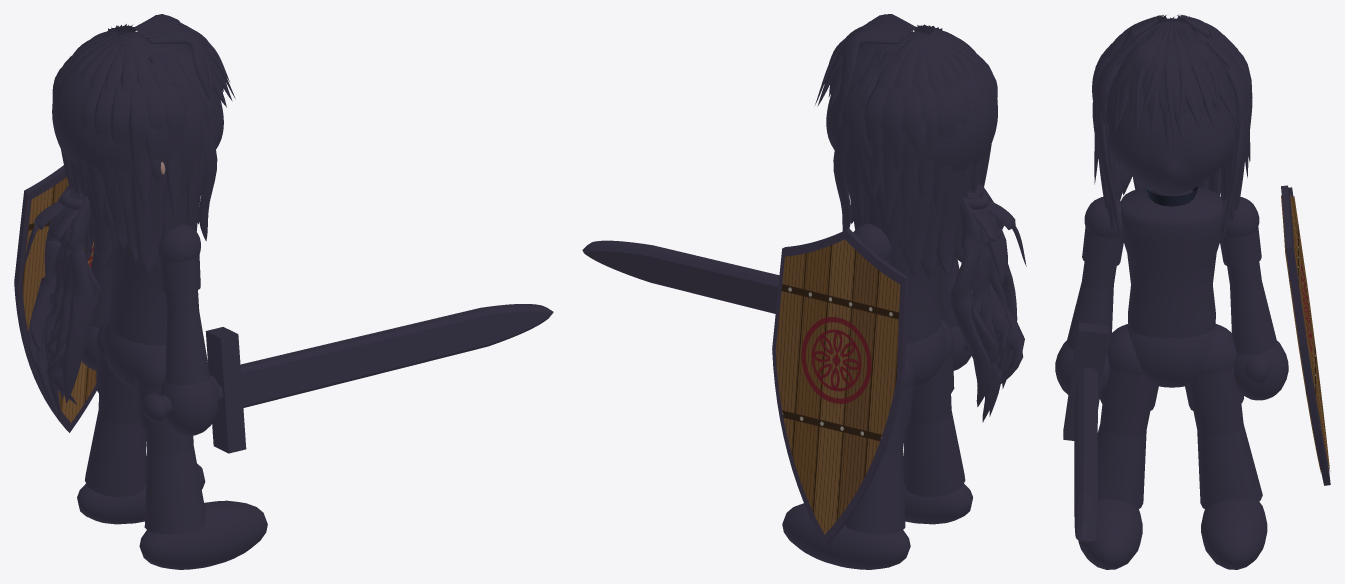
File: kael.glb
3 renders of one model, left to right at view 1: azimuth 30°, elevation 25°; view 2: azimuth 150°, elevation 25°; view 3: azimuth 270°, elevation 25°, orthographic.
Visible parts, largest first — view 1: ct_70_104, ct_95_121, ct_500_6, ct_95_120, ct_140_1, ct_95_126, ct_70_105, ct_170_93, escudoBase, ct_95_101, ct_70_115, ct_95_102 (+31 smaller); view 2: escudoBase, ct_70_104, ct_70_115, ct_500_6, ct_95_127, ct_95_120, ct_170_85, ct_95_126, ct_140_1, ct_95_121, ct_170_59, ct_95_0 (+36 smaller); view 3: ct_140_1, ct_500_3, ct_70_104, ct_95_126, ct_95_127, ct_95_0, ct_95_120, ct_95_121, ct_70_115, ct_95_112, escudoBase, ct_70_105 (+42 smaller).
Boxes of the visible parts, <box> form: ct_70_104: <box>240,304,553,407</box>; ct_95_121: <box>139,500,267,569</box>; ct_500_6: <box>52,31,218,171</box>; ct_95_120: <box>144,446,205,534</box>; ct_140_1: <box>109,244,166,345</box>; ct_95_126: <box>85,410,146,497</box>; ct_70_105: <box>205,327,246,453</box>; ct_170_93: <box>62,196,94,403</box>; escudoBase: <box>22,177,96,422</box>; ct_95_101: <box>165,312,209,385</box>; ct_70_115: <box>14,165,96,432</box>; ct_95_102: <box>160,377,218,435</box>; escudoBase: <box>775,239,900,534</box>; ct_70_104: <box>582,240,779,313</box>; ct_70_115: <box>772,228,908,546</box>; ct_500_6: <box>831,31,997,174</box>; ct_95_127: <box>782,503,910,569</box>; ct_95_120: <box>903,411,965,497</box>; ct_170_85: <box>949,197,992,406</box>; ct_95_126: <box>845,450,905,534</box>; ct_140_1: <box>890,245,940,343</box>; ct_95_121: <box>903,456,972,524</box>; ct_170_59: <box>881,42,923,225</box>; ct_95_0: <box>905,321,946,389</box>; ct_140_1: <box>1120,187,1222,338</box>; ct_500_3: <box>1108,108,1235,194</box>; ct_70_104: <box>1074,367,1097,543</box>; ct_95_126: <box>1197,424,1262,509</box>; ct_95_127: <box>1201,499,1267,569</box>; ct_95_0: <box>1127,325,1216,387</box>; ct_95_120: <box>1097,424,1146,509</box>; ct_95_121: <box>1078,499,1142,569</box>; ct_70_115: <box>1281,185,1330,485</box>; ct_95_112: <box>1230,282,1277,354</box>; escudoBase: <box>1281,194,1330,472</box>; ct_70_105: <box>1063,322,1108,440</box>.
Size of the model in its own units: 1.35 by 1.41 by 0.6814.
Materials: 18 (6 with a texture image).
